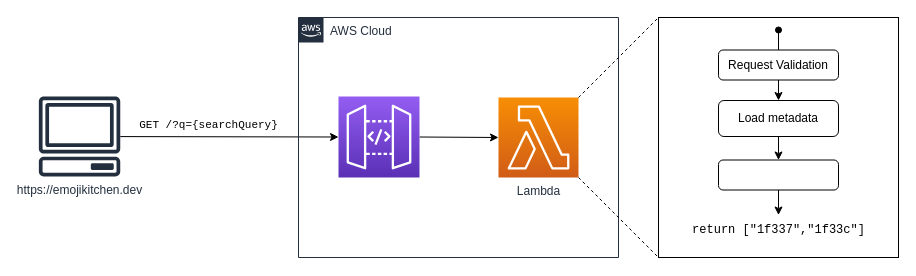
The diagram is 916 pixels wide and 276 high, and some of its shapes have lost their labels. Each missing label, with the centre of its shape:
"API Gateway" goes at [379,137].
"Search and filter" goes at [778,174].
